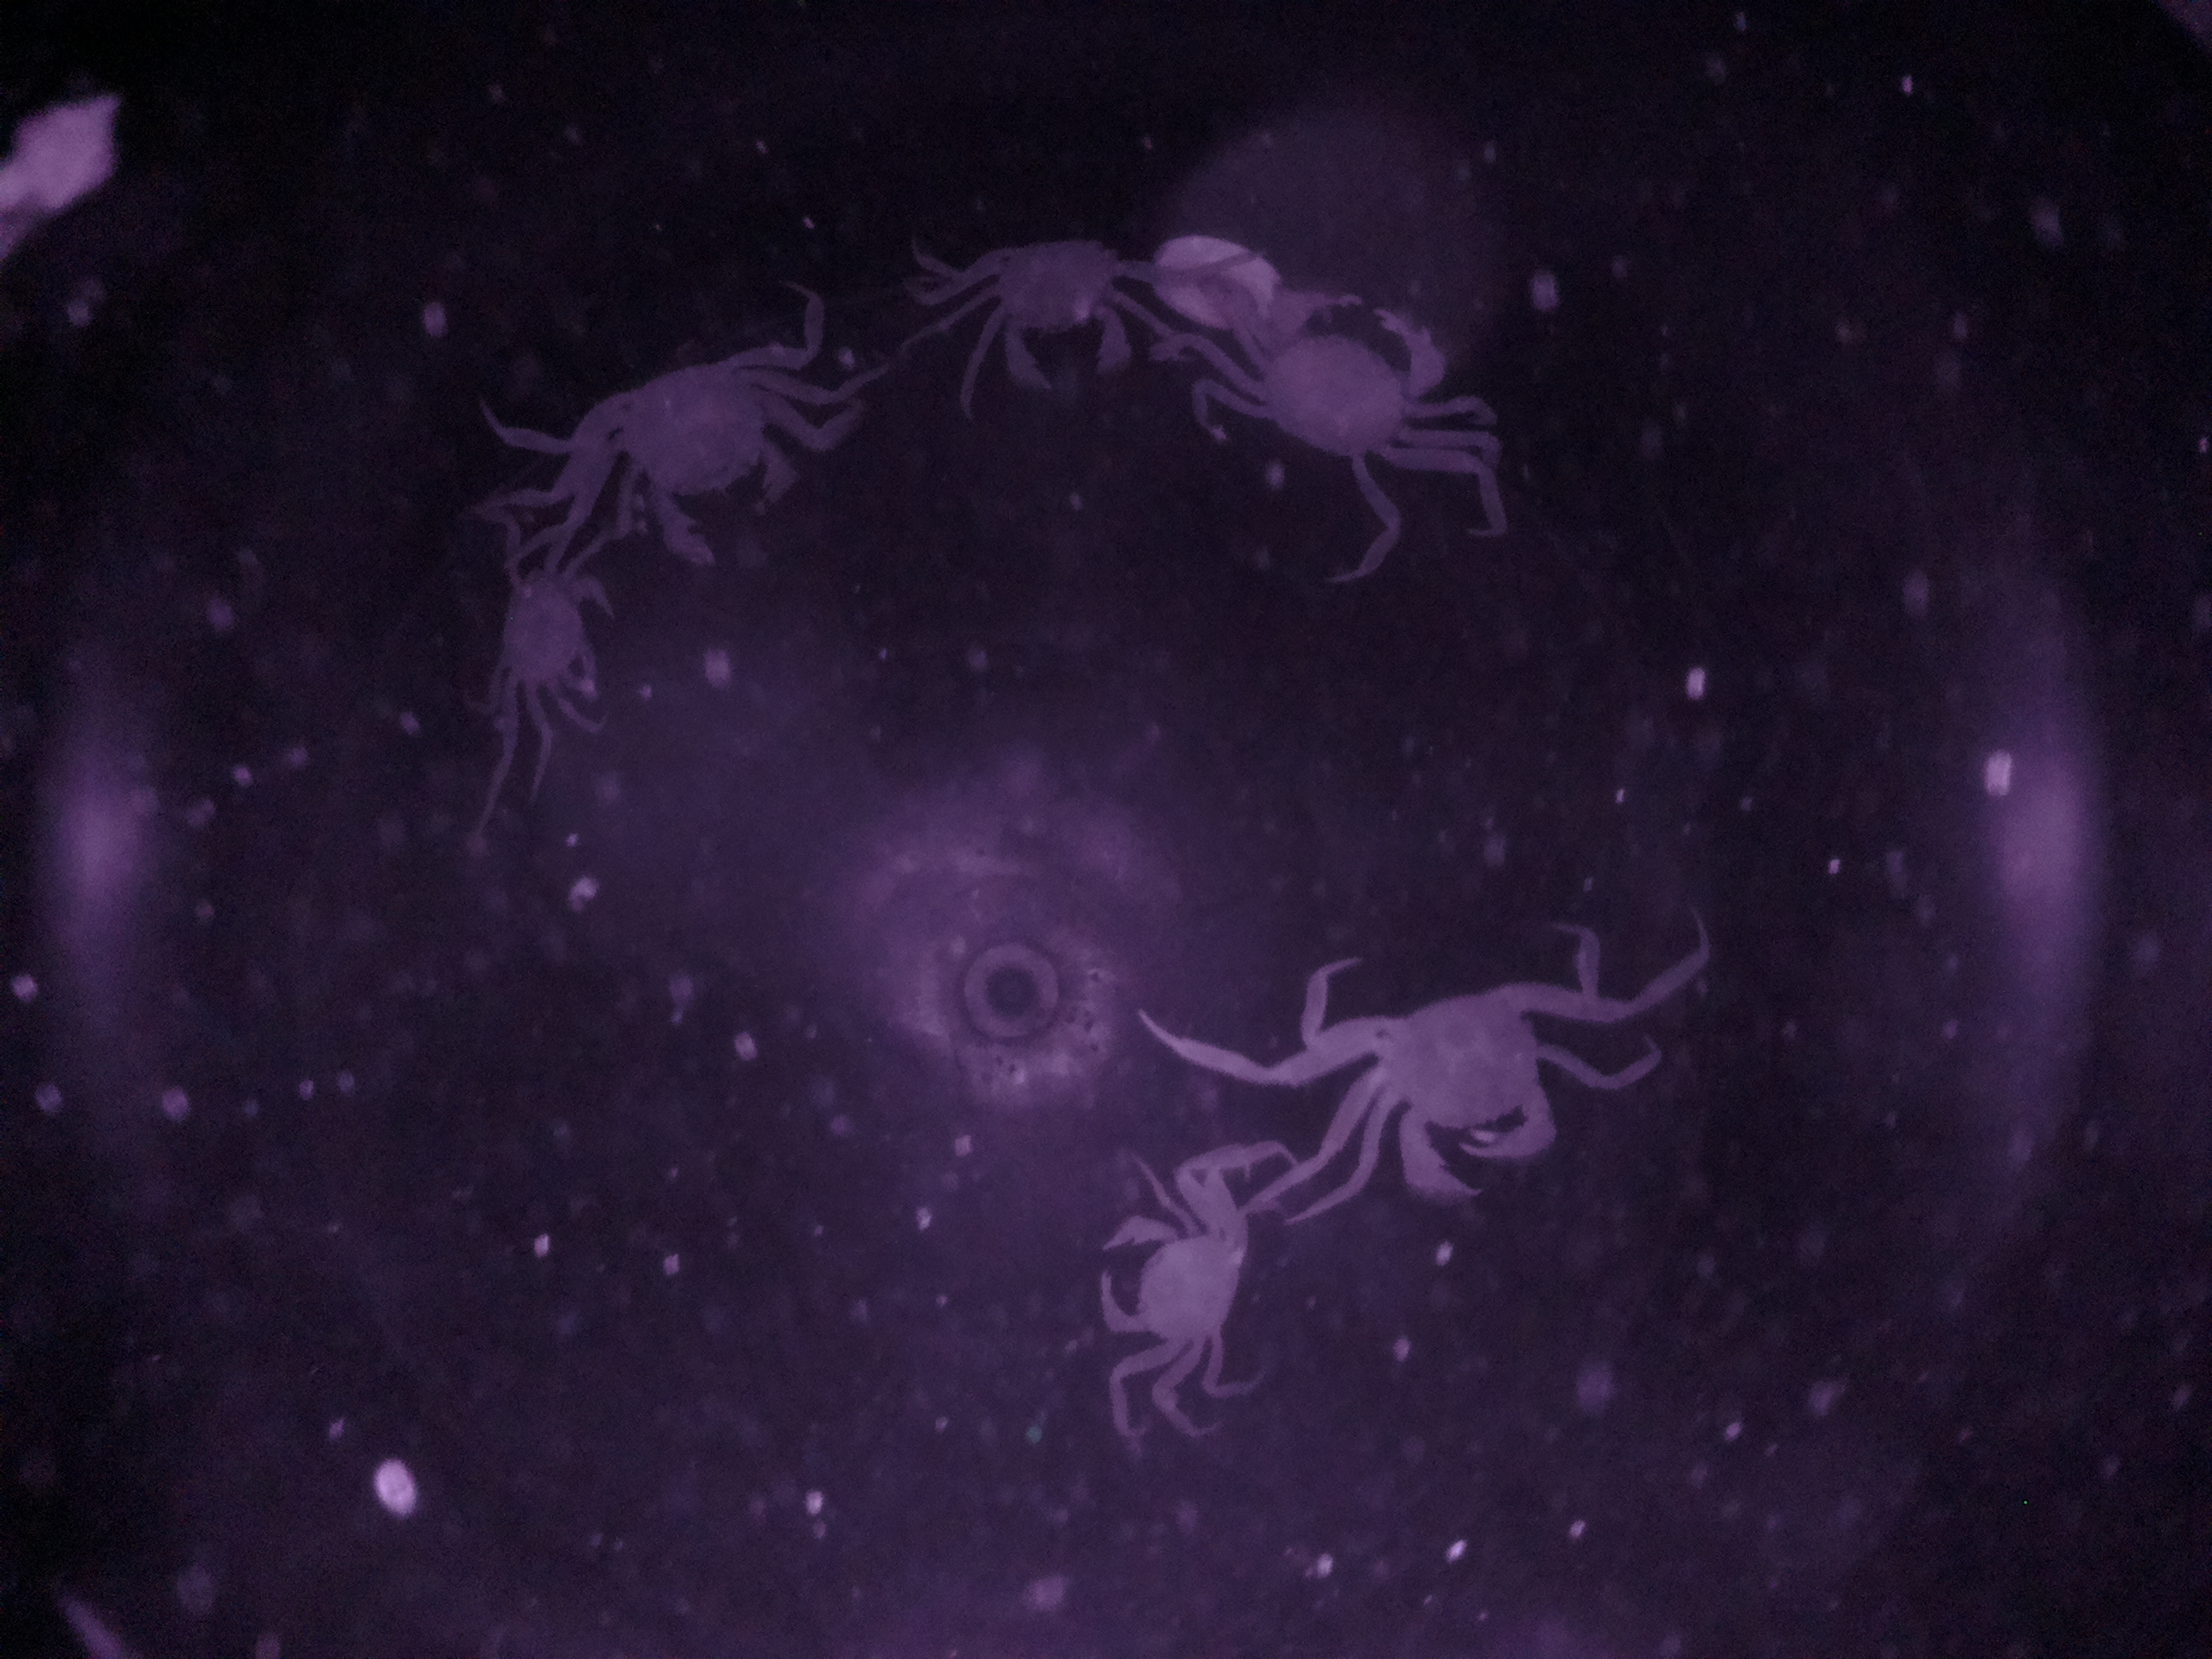Crab: (1263, 932, 1613, 1209), (536, 298, 848, 589), (1200, 265, 1479, 497), (1064, 1138, 1278, 1419)
